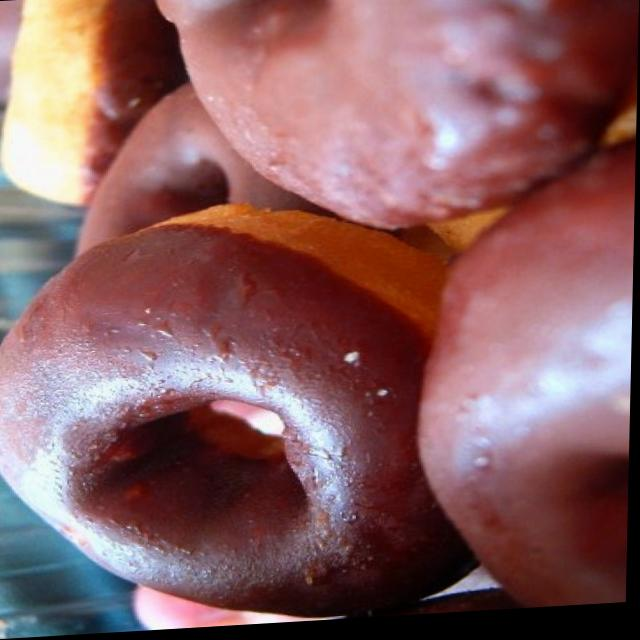炸货点心: (0, 0, 620, 628)
